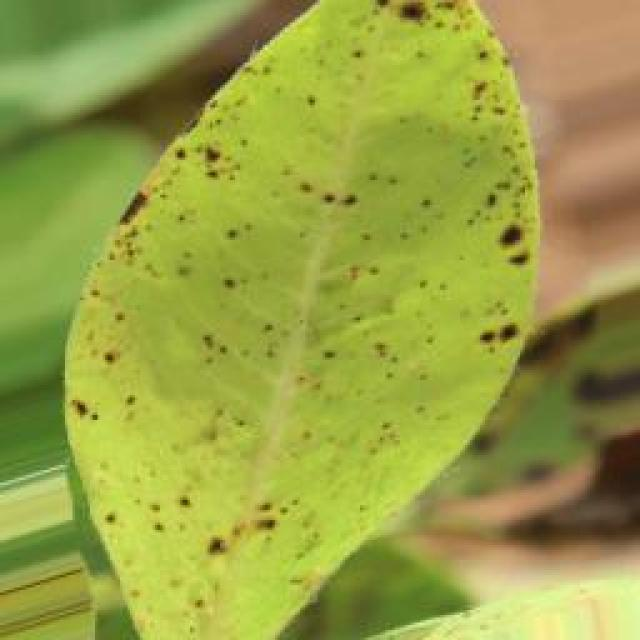Yellowish: (38, 0, 538, 640)
